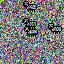sheep: (23, 1, 37, 12), (23, 18, 37, 29), (24, 26, 38, 37), (48, 23, 62, 34)
